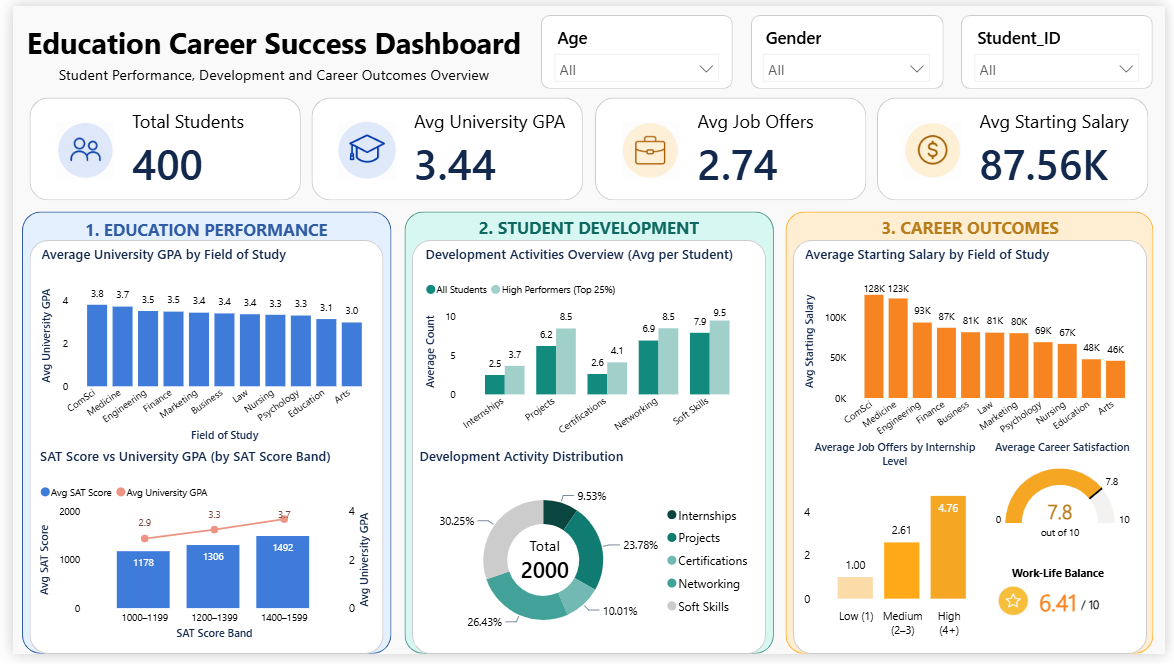

The page's visual inventory and layout, read from the dashboard file:
{"tool":"powerbi","page":{"name":"Page 1","canvas":[1280,720],"ordinal":0},"visuals":[{"type":"shape","box":[587.1,10,213,82],"z":0,"group":"g4"},{"type":"shape","box":[821.1,10,214,82],"z":0,"group":"g3"},{"type":"shape","box":[1054.1,10,213,82],"z":0,"group":"g2"},{"type":"textbox","box":[0,14,580,62],"z":0},{"type":"shape","box":[19.1,102.3,301.7,114.3],"z":0,"group":"g1"},{"type":"shape","box":[646.7,102.3,301.7,114.3],"z":0,"group":"g6"},{"type":"shape","box":[961.3,102.3,301.7,114.3],"z":0,"group":"g7"},{"type":"shape","box":[332.1,102.4,301.7,114.3],"z":0,"group":"g5"},{"type":"slicer","fields":{"Values":["Student.Gender"]},"box":[824.1,17,205,67],"z":1000,"group":"g3"},{"type":"slicer","fields":{"Values":["Student.Student_ID"]},"box":[1058.5,17.3,202.6,67.3],"z":1000,"group":"g2"},{"type":"textbox","box":[0,60,580,38],"z":1000},{"type":"cardVisual","fields":{"Data":["Avg(Education.University_GPA)"]},"box":[417.6,101.8,229.7,116.1],"z":1000,"group":"g5"},{"type":"cardVisual","fields":{"Data":["Count(Student.Student_ID)"]},"box":[103.4,102.1,224.2,115.1],"z":1000,"group":"g1"},{"type":"cardVisual","fields":{"Data":["Avg(Job Outcome.Job_Offers)"]},"box":[731,102.1,224.2,115.1],"z":1000,"group":"g6"},{"type":"cardVisual","fields":{"Data":["Avg(Job Outcome.Starting_Salary)"]},"box":[1045.6,102.1,224.2,115.1],"z":1000,"group":"g7"},{"type":"group","id":"g1","title":"Group 1","box":[19.1,102.1,308,114.6],"z":2000,"group":"g8"},{"type":"image","box":[37.9,129.1,86.7,64.3],"z":2000,"group":"g1"},{"type":"image","box":[665.5,129.1,86.7,64.3],"z":2000,"group":"g6"},{"type":"image","box":[980.1,129.1,86.7,64.3],"z":2000,"group":"g7"},{"type":"image","box":[350.9,129.2,86.7,64.3],"z":2000,"group":"g5"},{"type":"shape","box":[858.9,229,408.8,491.5],"z":2000},{"type":"group","id":"g2","title":"Group 2","box":[1054.1,10,213,82],"z":3000,"group":"g3"},{"type":"slicer","fields":{"Values":["Student.Age"]},"box":[591.5,17.3,202.6,67.3],"z":3000,"group":"g4"},{"type":"shape","box":[434.4,228.9,410.4,491.5],"z":3000},{"type":"shape","box":[9.5,229,410.4,491.5],"z":4000},{"type":"group","id":"g3","title":"Group 3","box":[587.1,10,680,82.9],"z":5000},{"type":"group","id":"g4","title":"Group 4","box":[587.1,10,213,82],"z":5000,"group":"g3"},{"type":"shape","box":[18.9,260,393.3,460],"z":6000},{"type":"shape","box":[443.3,260,393.3,460],"z":7000},{"type":"shape","box":[866.7,260,393.3,460],"z":8000},{"type":"textbox","box":[70,229.2,289.5,41.4],"z":9000},{"type":"group","id":"g5","title":"Group 1","box":[332.1,101.8,315.2,116.1],"z":10000,"group":"g8"},{"type":"textbox","box":[494.7,229,290,41.7],"z":10000},{"type":"group","id":"g6","title":"Group 1","box":[646.7,102.1,308,114.6],"z":11000,"group":"g8"},{"type":"textbox","box":[917.8,229,290,41.1],"z":11000},{"type":"group","id":"g7","title":"Group 1","box":[961.3,102.1,308,114.6],"z":12000,"group":"g8"},{"type":"lineStackedColumnComboChart","title":"Average University GPA by Field of Study","fields":{"Category":["Field of Study.Field_of_Study"],"Y":["Avg(Education.University_GPA)"]},"box":[26.4,265.5,377.3,224.5],"z":12000},{"type":"lineClusteredColumnComboChart","title":"SAT Score vs University GPA (by SAT Score Band)","fields":{"Category":["Education.SAT Score Band"],"Y":["Avg(Education.SAT_Score)"],"Y2":["Avg(Education.University_GPA)"]},"box":[25.3,490,380,220],"z":13000},{"type":"group","id":"g8","title":"Group 5","box":[19.1,101.8,1250.2,116.1],"z":14000},{"type":"clusteredColumnChart","title":"Development Activities Overview (Avg per Student)","fields":{"Y":["Development.All Students","Development.High Performers (Top 25%)"],"Category":["Development.Development_Activities"]},"box":[452.7,265.5,371.8,224.5],"z":15000},{"type":"donutChart","title":"Development Activity Distribution","fields":{"Category":["Development.Development_Activities"],"Y":["Sum(Development.Activity_Score)"]},"box":[446.7,490,383.3,220],"z":16000},{"type":"cardVisual","fields":{"Data":["CountNonNull(Development.Development_Activities)"]},"box":[532.9,558.6,115,98],"z":17000},{"type":"columnChart","title":"Average Starting Salary by Field of Study","fields":{"Category":["Field of Study.Field_of_Study"],"Y":["Avg(Job Outcome.Starting_Salary)"]},"box":[874.5,265.5,376.4,224.5],"z":18000},{"type":"columnChart","title":"Average Job Offers by Internship Level","fields":{"Category":["Student.Internship Level"],"Y":["Avg(Job Outcome.Job_Offers)"]},"box":[873.6,482.1,212.9,227.9],"z":19000},{"type":"gauge","title":"Average Career Satisfaction","fields":{"Y":["Avg(Job Outcome.Career_Satisfaction)"]},"box":[1072.9,482.1,185,102.9],"z":20000},{"type":"textbox","box":[1115.3,567.6,96.5,28.2],"z":21000},{"type":"cardVisual","fields":{"Data":["Avg(Job Outcome.Work_Life_Balance)"]},"box":[1063,600,195,100],"z":22000},{"type":"textbox","box":[1181.4,650,31.4,32.9],"z":22001},{"type":"image","box":[1090.8,644.6,43.1,32.3],"z":22002}]}

Visuals, with their boxes in screenshot pixels (x1, y1, x2, y2), scaled from the page's 1280x720 canvas onto the 1174x664 screenshot:
shape: <region>538, 9, 734, 85</region>
shape: <region>753, 9, 949, 85</region>
shape: <region>967, 9, 1162, 85</region>
textbox: <region>0, 13, 532, 70</region>
shape: <region>18, 94, 294, 200</region>
shape: <region>593, 94, 870, 200</region>
shape: <region>882, 94, 1158, 200</region>
shape: <region>305, 94, 581, 200</region>
slicer - Student.Gender: <region>756, 16, 944, 77</region>
slicer - Student.Student_ID: <region>971, 16, 1157, 78</region>
textbox: <region>0, 55, 532, 90</region>
cardVisual - Avg(Education.University_GPA): <region>383, 94, 594, 201</region>
cardVisual - Count(Student.Student_ID): <region>95, 94, 300, 200</region>
cardVisual - Avg(Job Outcome.Job_Offers): <region>670, 94, 876, 200</region>
cardVisual - Avg(Job Outcome.Starting_Salary): <region>959, 94, 1165, 200</region>
"Group 1" group: <region>18, 94, 300, 200</region>
image: <region>35, 119, 114, 178</region>
image: <region>610, 119, 690, 178</region>
image: <region>899, 119, 978, 178</region>
image: <region>322, 119, 401, 178</region>
shape: <region>788, 211, 1163, 663</region>
"Group 2" group: <region>967, 9, 1162, 85</region>
slicer - Student.Age: <region>543, 16, 728, 78</region>
shape: <region>398, 211, 775, 663</region>
shape: <region>9, 211, 385, 663</region>
"Group 3" group: <region>538, 9, 1162, 86</region>
"Group 4" group: <region>538, 9, 734, 85</region>
shape: <region>17, 240, 378, 663</region>
shape: <region>407, 240, 767, 663</region>
shape: <region>795, 240, 1156, 663</region>
textbox: <region>64, 211, 330, 250</region>
"Group 1" group: <region>305, 94, 594, 201</region>
textbox: <region>454, 211, 720, 250</region>
"Group 1" group: <region>593, 94, 876, 200</region>
textbox: <region>842, 211, 1108, 249</region>
"Group 1" group: <region>882, 94, 1164, 200</region>
"Average University GPA by Field of Study" lineStackedColumnComboChart: <region>24, 245, 370, 452</region>
"SAT Score vs University GPA (by SAT Score Band)" lineClusteredColumnComboChart: <region>23, 452, 372, 655</region>
"Group 5" group: <region>18, 94, 1164, 201</region>
"Development Activities Overview (Avg per Student)" clusteredColumnChart: <region>415, 245, 756, 452</region>
"Development Activity Distribution" donutChart: <region>410, 452, 761, 655</region>
cardVisual - CountNonNull(Development.Development_Activities): <region>489, 515, 594, 606</region>
"Average Starting Salary by Field of Study" columnChart: <region>802, 245, 1147, 452</region>
"Average Job Offers by Internship Level" columnChart: <region>801, 445, 997, 655</region>
"Average Career Satisfaction" gauge: <region>984, 445, 1154, 540</region>
textbox: <region>1023, 523, 1111, 549</region>
cardVisual - Avg(Job Outcome.Work_Life_Balance): <region>975, 553, 1154, 646</region>
textbox: <region>1084, 599, 1112, 630</region>
image: <region>1000, 594, 1040, 624</region>
